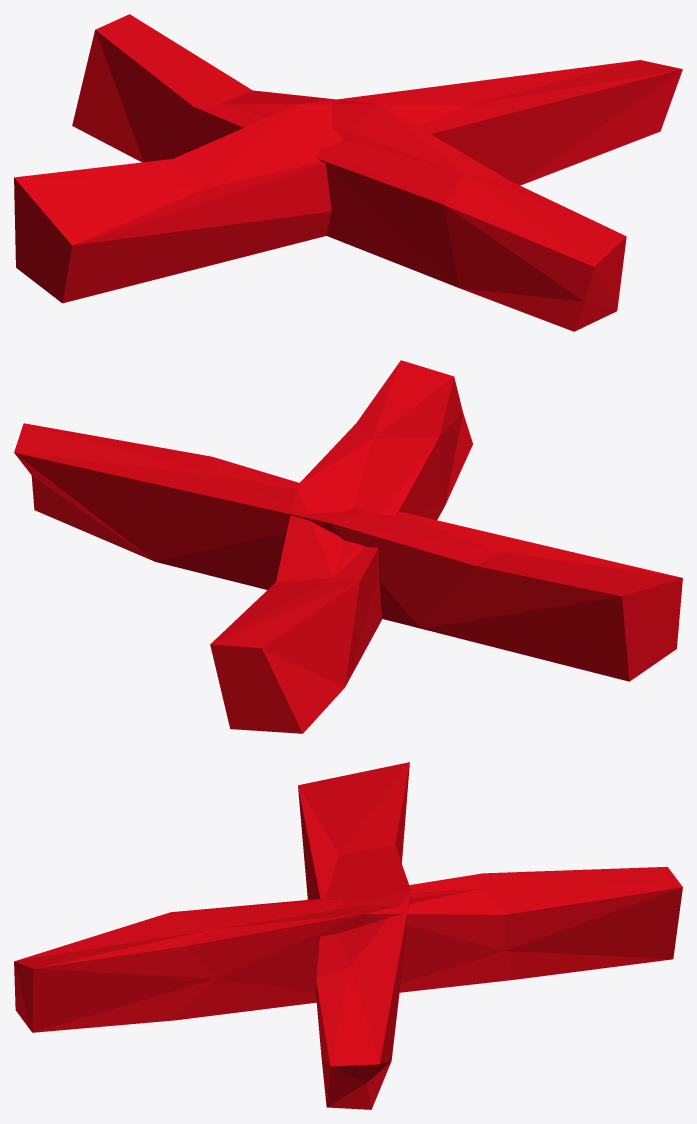
File: BlockEffect.fbx
The picture shows the model from 3 angles, top to bottom: view 1: azimuth 30°, elevation 25°; view 2: azimuth 150°, elevation 25°; view 3: azimuth 270°, elevation 25°; orthographic projection. The views are drawn at different scales.
Parts seen in each view (by area): view 1: Cube.001; view 2: Cube.001; view 3: Cube.001.
Boxes of the visible parts, <box> form: Cube.001: <box>14,14,682,331</box>; Cube.001: <box>14,360,682,733</box>; Cube.001: <box>14,762,682,1109</box>.
Size of the model in its own units: 1688 by 250 by 1633.
